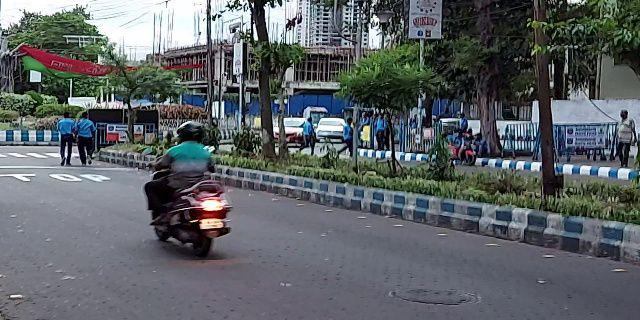Motorbike: (143, 118, 240, 257)
